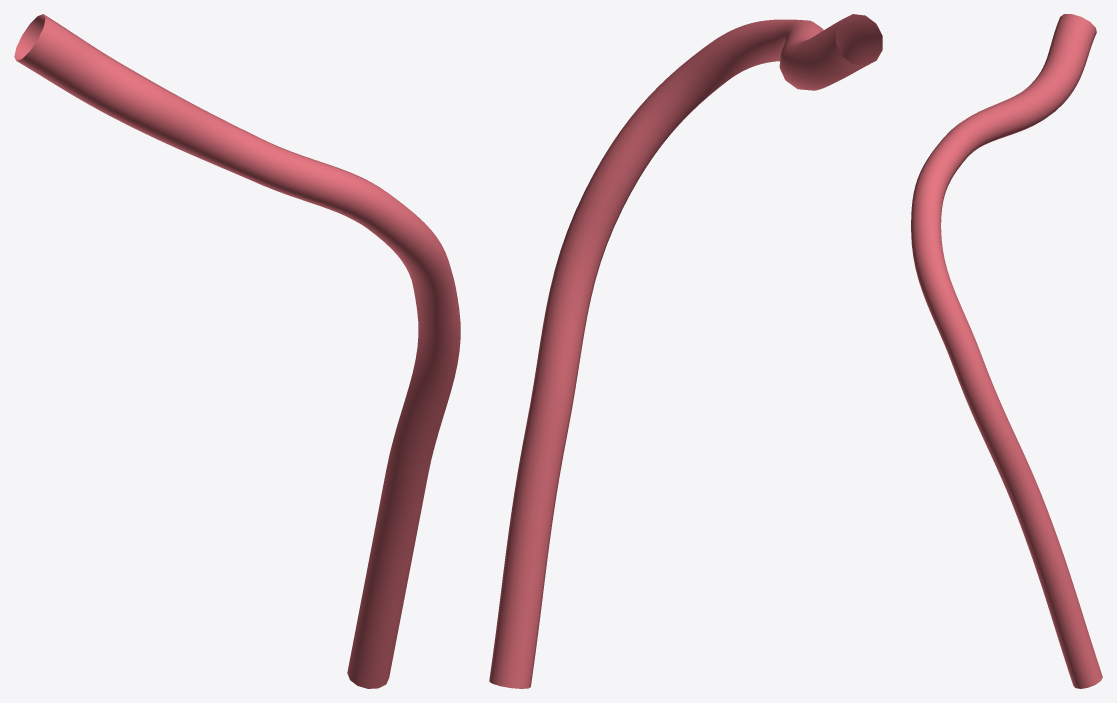
3 renders of one model, left to right at view 1: azimuth 30°, elevation 25°; view 2: azimuth 150°, elevation 25°; view 3: azimuth 270°, elevation 25°, orthographic. The views are drawn at different scales.
Visible parts, largest first — view 1: ZA_0ff5e6d572a6c0f9; view 2: ZA_0ff5e6d572a6c0f9; view 3: ZA_0ff5e6d572a6c0f9.
Boxes of the visible parts, x1,y1,x2,y2 form: ZA_0ff5e6d572a6c0f9: (14, 14, 460, 688); ZA_0ff5e6d572a6c0f9: (489, 14, 882, 688); ZA_0ff5e6d572a6c0f9: (911, 14, 1102, 688).
Size of the model in its own units: 0.0145 by 0.0274 by 0.00864.
